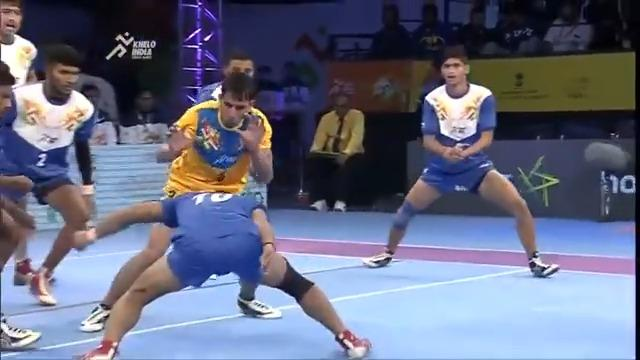Player: (360, 48, 562, 281), (106, 196, 288, 305), (24, 43, 87, 312), (275, 233, 635, 278), (6, 5, 31, 36)
Raider: (154, 82, 281, 193)
referee: (306, 82, 368, 211)
